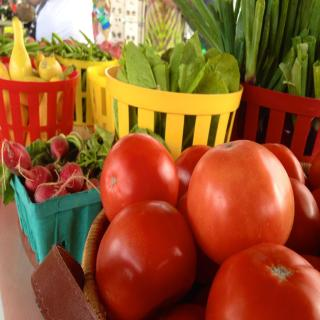tomato: (182, 132, 297, 266), (96, 198, 197, 320), (205, 241, 320, 320), (100, 131, 180, 224), (286, 175, 320, 252), (172, 144, 210, 208), (262, 142, 306, 181), (165, 302, 207, 320), (307, 152, 320, 187), (312, 185, 320, 209)
